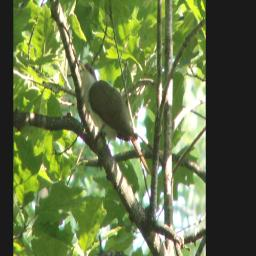Cuckoo: (76, 59, 153, 177)
